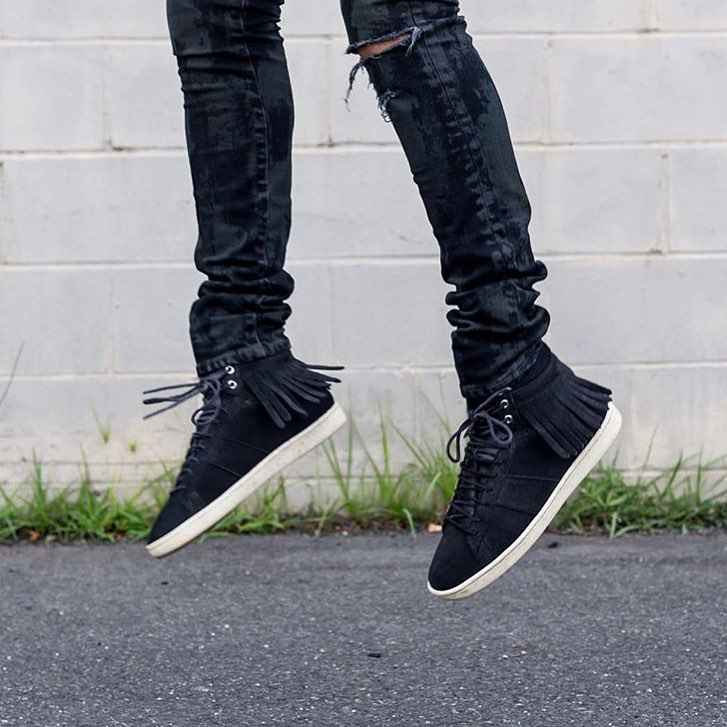sneaker: (390, 341, 642, 613), (102, 335, 371, 570)
